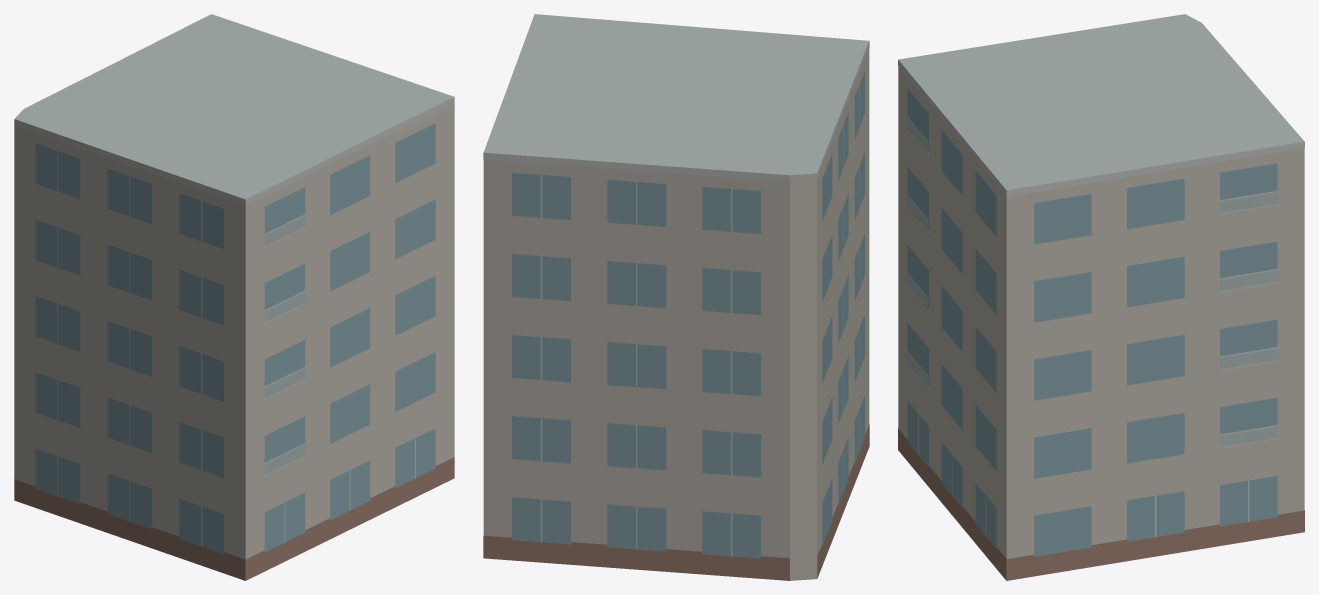
The model's file is survey-upis-32848312.glb.
3 views of the same model, side by side, from view 1: azimuth 30°, elevation 25°; view 2: azimuth 150°, elevation 25°; view 3: azimuth 270°, elevation 25° (orthographic). The views are drawn at different scales.
Parts seen in each view (by area): view 1: survey-upis-32848312.tmp; view 2: survey-upis-32848312.tmp; view 3: survey-upis-32848312.tmp.
Boxes of the visible parts, x1,y1,x2,y2 form: survey-upis-32848312.tmp: (14,14,454,580); survey-upis-32848312.tmp: (483,14,869,580); survey-upis-32848312.tmp: (898,14,1304,580).
Size of the model in its own units: 14.23 by 14.68 by 13.86.
